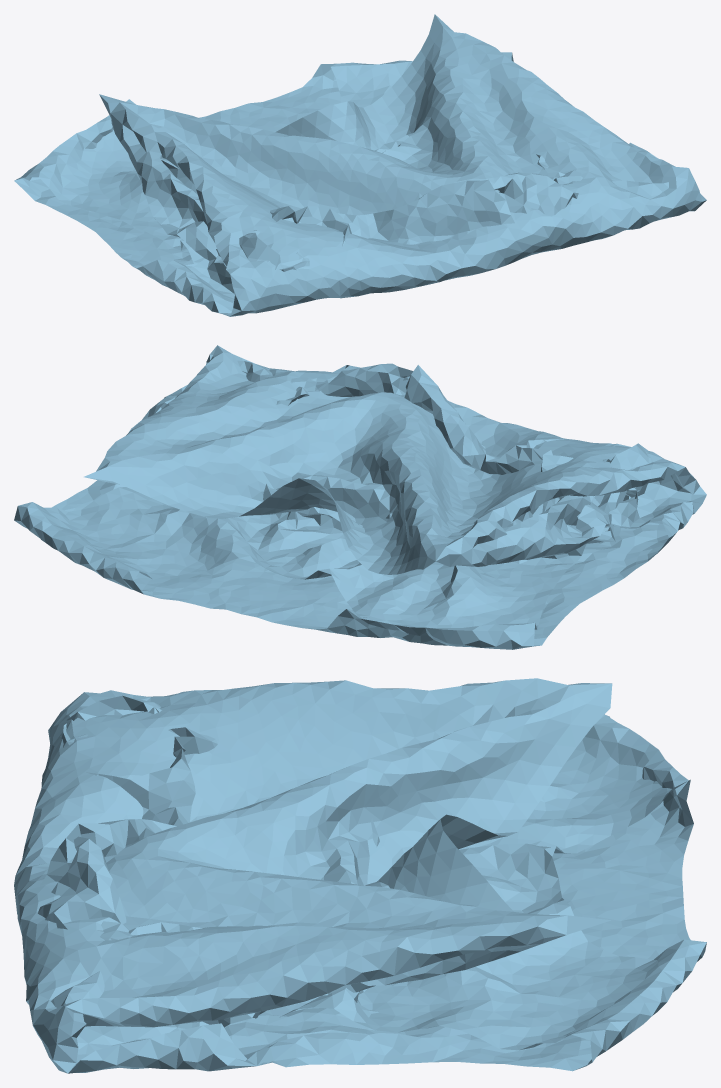
File: frame_19.glb
3 views of the same model, one above another, from view 1: azimuth 30°, elevation 25°; view 2: azimuth 150°, elevation 25°; view 3: azimuth 270°, elevation 25° (orthographic). The views are drawn at different scales.
Visible parts, largest first — view 1: frame_19.obj; view 2: frame_19.obj; view 3: frame_19.obj.
Part boxes in pixels (bbox=[...]): frame_19.obj: bbox=[14, 14, 706, 316]; frame_19.obj: bbox=[14, 345, 706, 649]; frame_19.obj: bbox=[14, 678, 706, 1073].
Bounding box in the file's own units: 1.26 × 0.1987 × 1.04.
